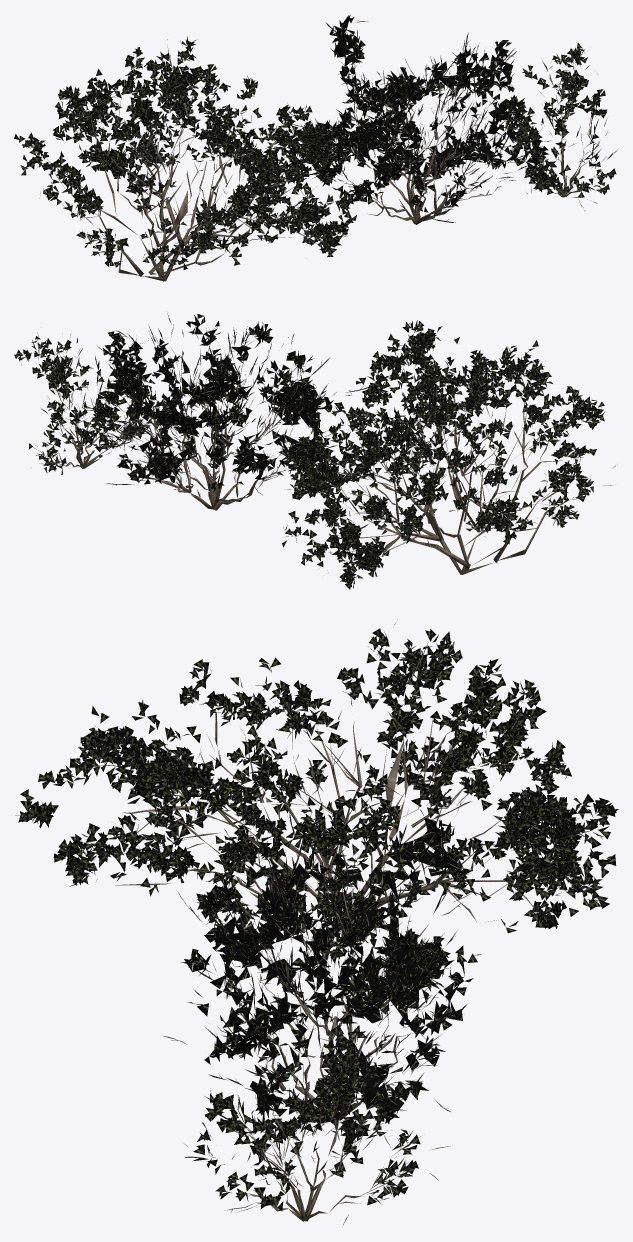
Rendered from searsia_burchellii.glb.
3 views of the same model, one above another, from view 1: azimuth 30°, elevation 25°; view 2: azimuth 150°, elevation 25°; view 3: azimuth 270°, elevation 25° (orthographic). The views are drawn at different scales.
Parts seen in each view (by area): view 1: searsia_burchellii_large_LOD0, searsia_burchellii_medium_LOD0, searsia_burchellii_small_LOD0; view 2: searsia_burchellii_large_LOD0, searsia_burchellii_medium_LOD0, searsia_burchellii_small_LOD0; view 3: searsia_burchellii_large_LOD0, searsia_burchellii_medium_LOD0, searsia_burchellii_small_LOD0.
Part boxes in pixels (<box>): searsia_burchellii_large_LOD0: <box>14,36,367,281</box>; searsia_burchellii_medium_LOD0: <box>293,15,551,224</box>; searsia_burchellii_small_LOD0: <box>499,42,617,210</box>; searsia_burchellii_large_LOD0: <box>279,320,617,589</box>; searsia_burchellii_medium_LOD0: <box>93,313,370,510</box>; searsia_burchellii_small_LOD0: <box>14,333,176,474</box>; searsia_burchellii_large_LOD0: <box>15,619,618,967</box>; searsia_burchellii_medium_LOD0: <box>163,804,473,1144</box>; searsia_burchellii_small_LOD0: <box>182,1012,452,1225</box>.
Size of the model in its own units: 7.72 by 3.09 by 4.95.
Materials: 3 (3 with a texture image).
